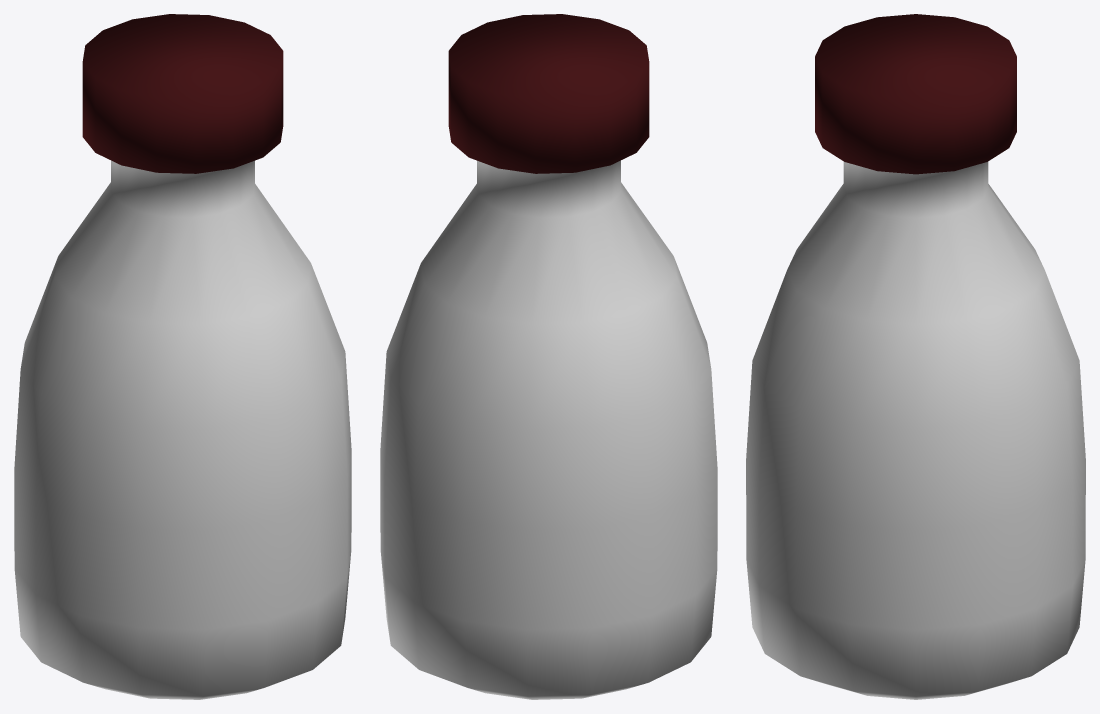
The model's file is Medince.fbx.
The picture shows the model from 3 angles, left to right: view 1: azimuth 30°, elevation 25°; view 2: azimuth 150°, elevation 25°; view 3: azimuth 270°, elevation 25°; orthographic projection.
Parts seen in each view (by area): view 1: Cylinder.016; view 2: Cylinder.016; view 3: Cylinder.016.
Boxes of the visible parts, bbox=[...] form: Cylinder.016: bbox=[14, 14, 351, 699]; Cylinder.016: bbox=[380, 14, 717, 699]; Cylinder.016: bbox=[746, 14, 1085, 699].
Size of the model in its own units: 5.26 by 5.26 by 10.07.
